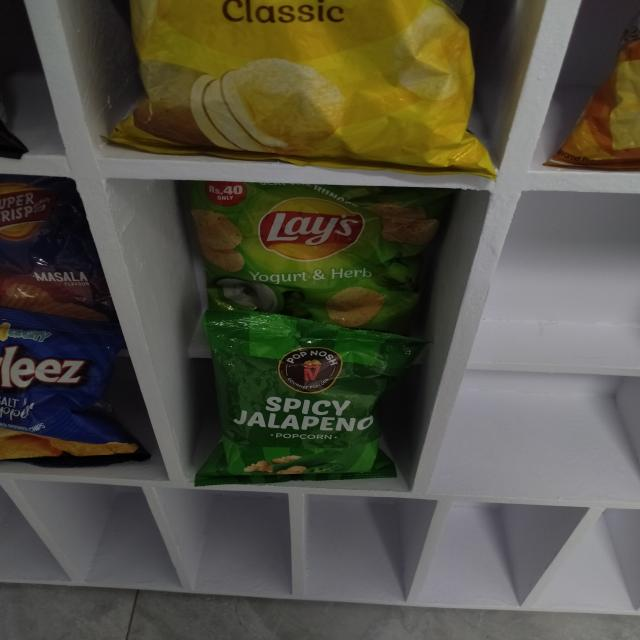Plastic: (111, 0, 493, 171), (179, 189, 442, 320), (207, 326, 384, 477), (2, 318, 137, 468), (7, 172, 98, 316)
